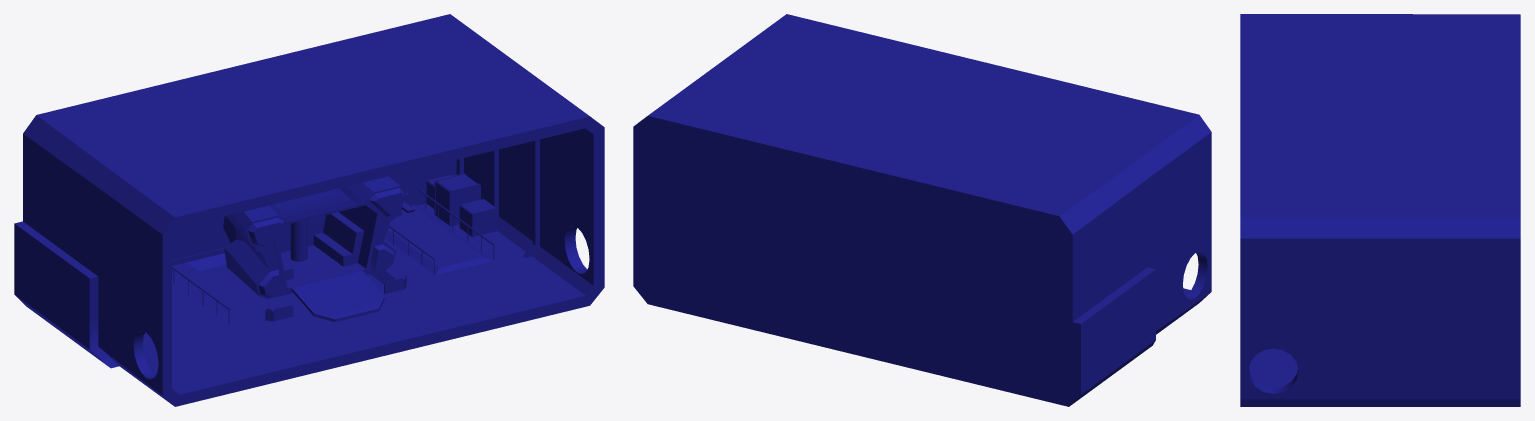
Rendered from Sala8-Armeria-02.fbx.
The picture shows the model from 3 angles, left to right: view 1: azimuth 30°, elevation 25°; view 2: azimuth 150°, elevation 25°; view 3: azimuth 270°, elevation 25°; orthographic projection.
Parts seen in each view (by area): view 1: sala8, nave, maquina-03, porton, container-02, soporte, container-01, barandilla, barreras; view 2: sala8; view 3: sala8.
Part boxes in pixels (bbox=[...]): sala8: bbox=[14, 14, 604, 406]; nave: bbox=[223, 176, 406, 321]; maquina-03: bbox=[385, 175, 493, 274]; porton: bbox=[172, 216, 230, 265]; container-02: bbox=[434, 173, 480, 226]; soporte: bbox=[456, 139, 539, 257]; container-01: bbox=[426, 175, 497, 236]; barandilla: bbox=[172, 189, 494, 324]; barreras: bbox=[265, 275, 406, 321]; sala8: bbox=[633, 14, 1211, 406]; sala8: bbox=[1240, 14, 1520, 406].
Bounding box in the file's own units: 2339 × 941 × 1258.
